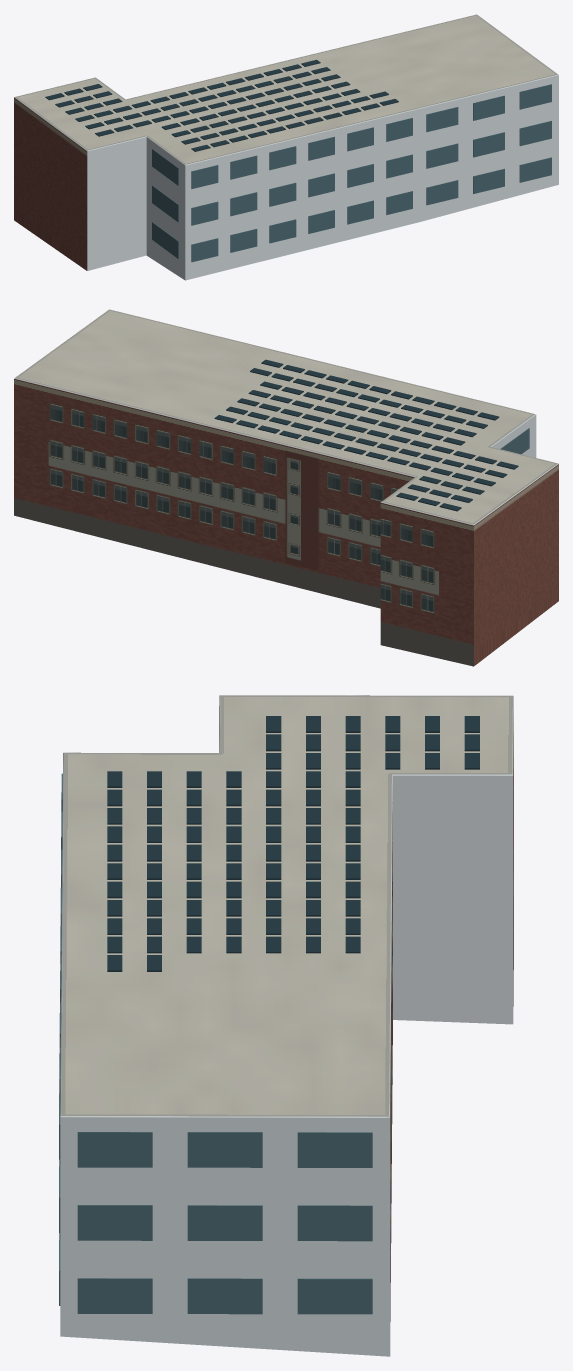
Rendered from intact.glb.
The picture shows the model from 3 angles, top to bottom: view 1: azimuth 30°, elevation 25°; view 2: azimuth 150°, elevation 25°; view 3: azimuth 270°, elevation 25°; orthographic projection. The views are drawn at different scales.
Visible parts, largest first — view 1: SM_rotc_Intact_00, SM_rotc_Intact_01, SM_rotc_Intact_02; view 2: SM_rotc_Intact_00, SM_rotc_Intact_02; view 3: SM_rotc_Intact_00, SM_rotc_Intact_01, SM_rotc_Intact_02.
Part boxes in pixels (x1=…): SM_rotc_Intact_00: x1=14, y1=14, x2=558, y2=280; SM_rotc_Intact_01: x1=152, y1=84, x2=551, y2=262; SM_rotc_Intact_02: x1=45, y1=59, x2=398, y2=151; SM_rotc_Intact_00: x1=14, y1=309, x2=558, y2=666; SM_rotc_Intact_02: x1=214, y1=359, x2=518, y2=511; SM_rotc_Intact_00: x1=60, y1=695, x2=513, y2=1356; SM_rotc_Intact_01: x1=59, y1=773, x2=372, y2=1314; SM_rotc_Intact_02: x1=107, y1=716, x2=479, y2=971.
Bounding box in the file's own units: 2.2 × 0.6095 × 1.
Materials: 7 (3 with a texture image).
